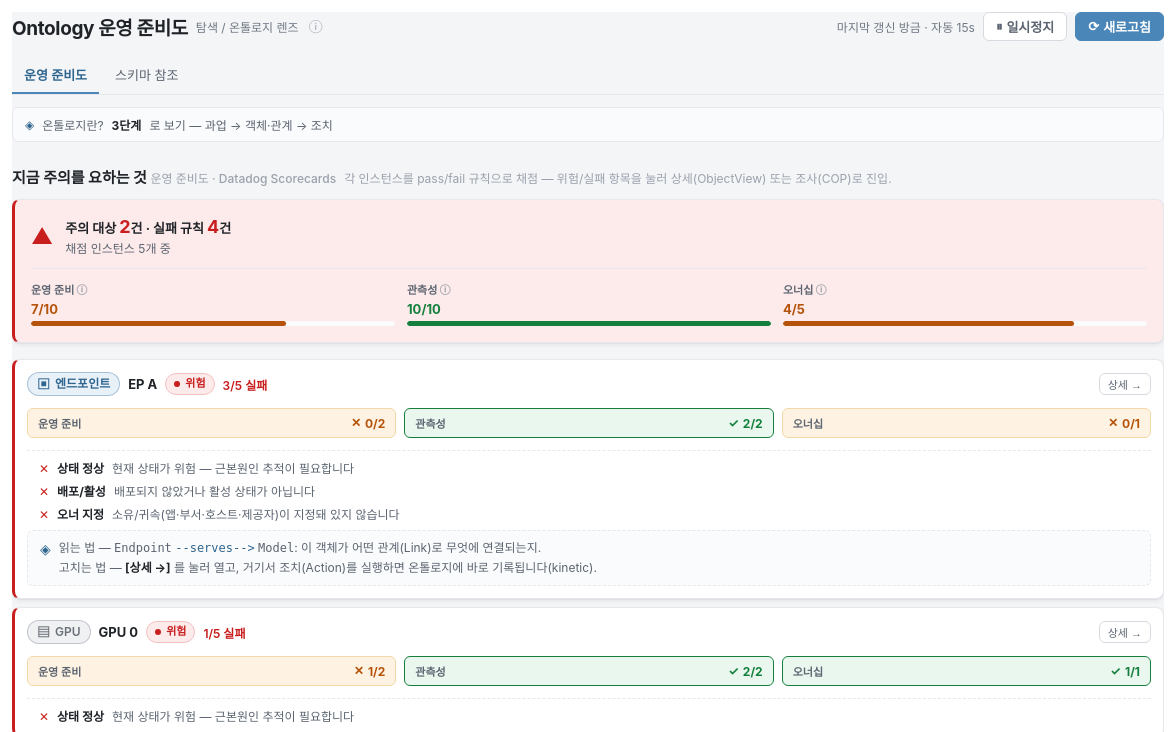
Test: Ontology — all-pass / empty / env-missing › env-missing: 링크 fetch 일부 reject 되어도 페이지는 생존(스코어카드 렌더)
# 스키마 참조 탭 — 링크 없으니 그래프 빈 상태 graceful.
Click the tab "스키마 참조" at (147, 76), box [103,57,191,94]
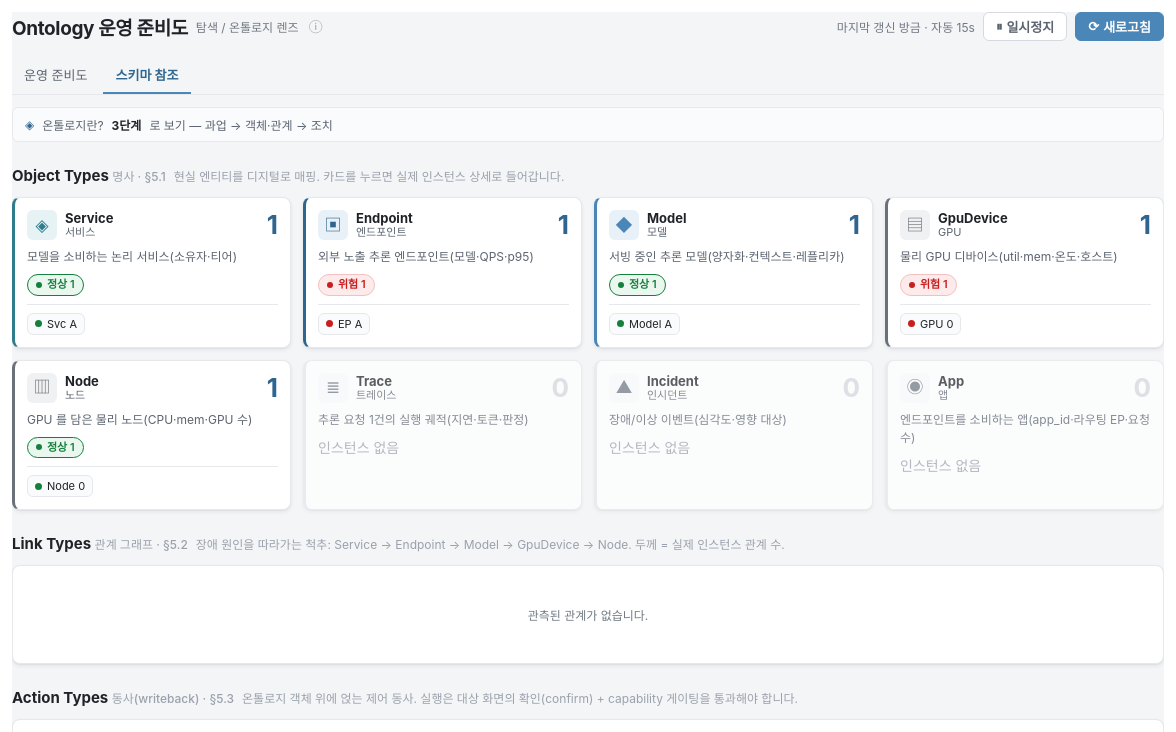
Now the text "관측된 관계가 없습니다." is shown, box [528,608,648,623]
